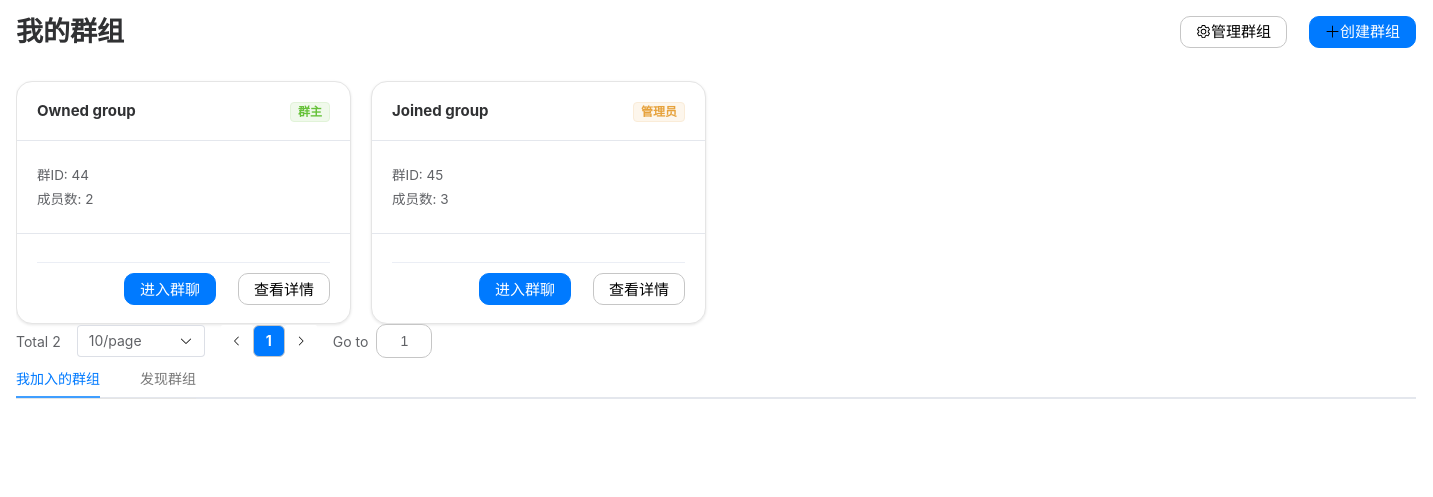
it: routed group page journeys with real API responses › searches from Groups with a bounded page and displays the public owner ID fallback
The width and height of the screenshot is (1433, 497).
Click the tab "发现群组". click: (168, 378)
box: [140,370,196,387]
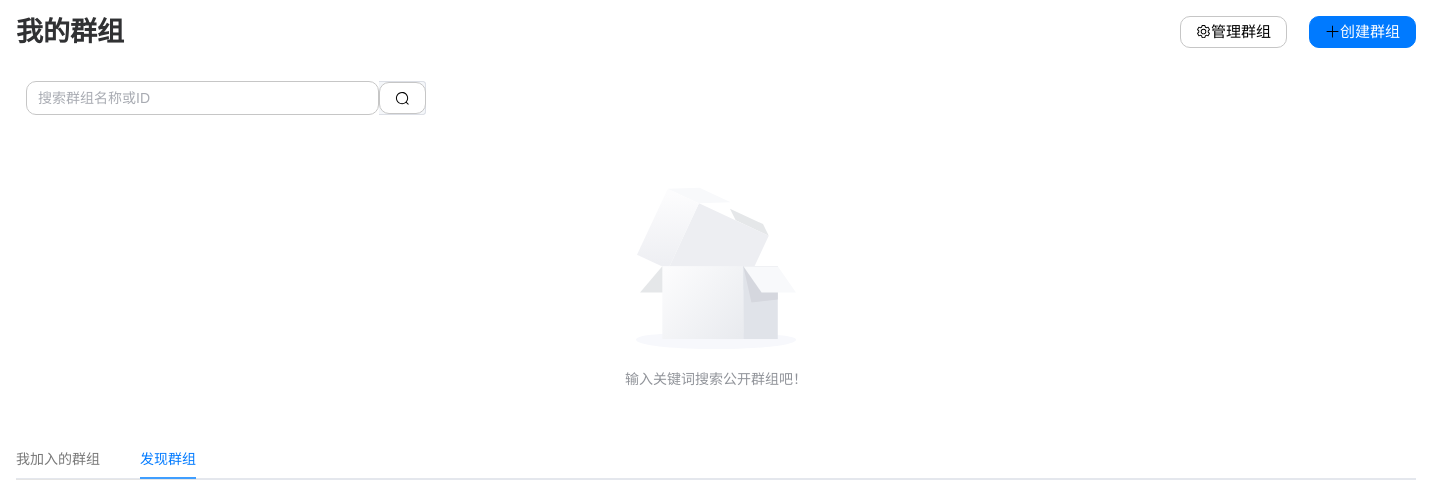
Type "Study" into the field with placeholder "搜索群组名称或ID". click: (202, 98)
box: [38,83,367,113]
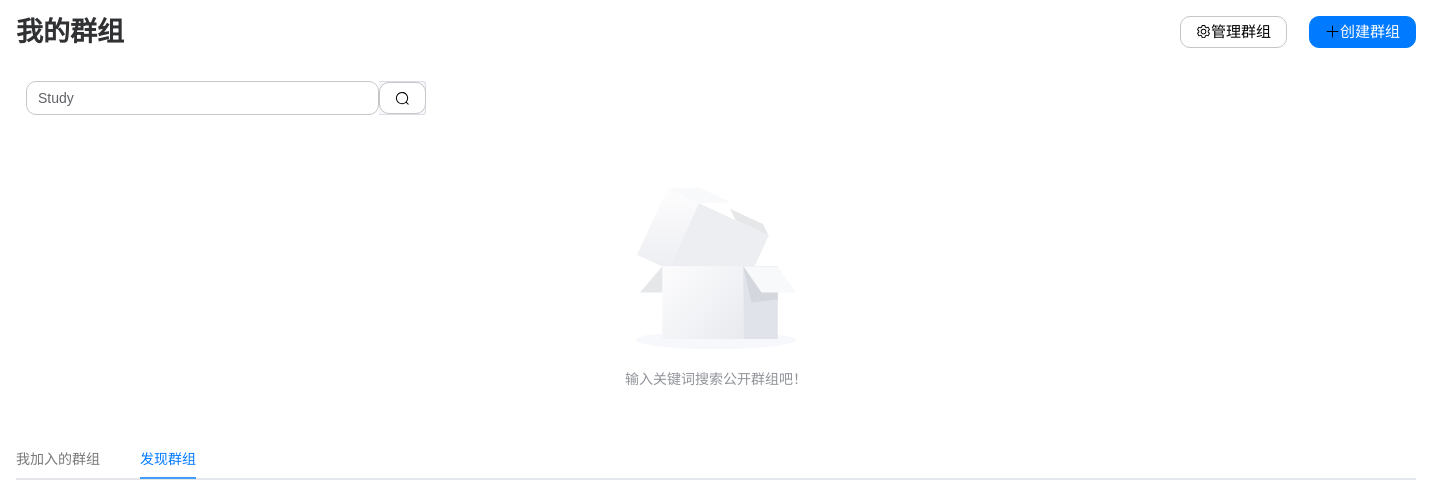
Click the 3rd button. click: (402, 98)
box: [379,82,426,114]
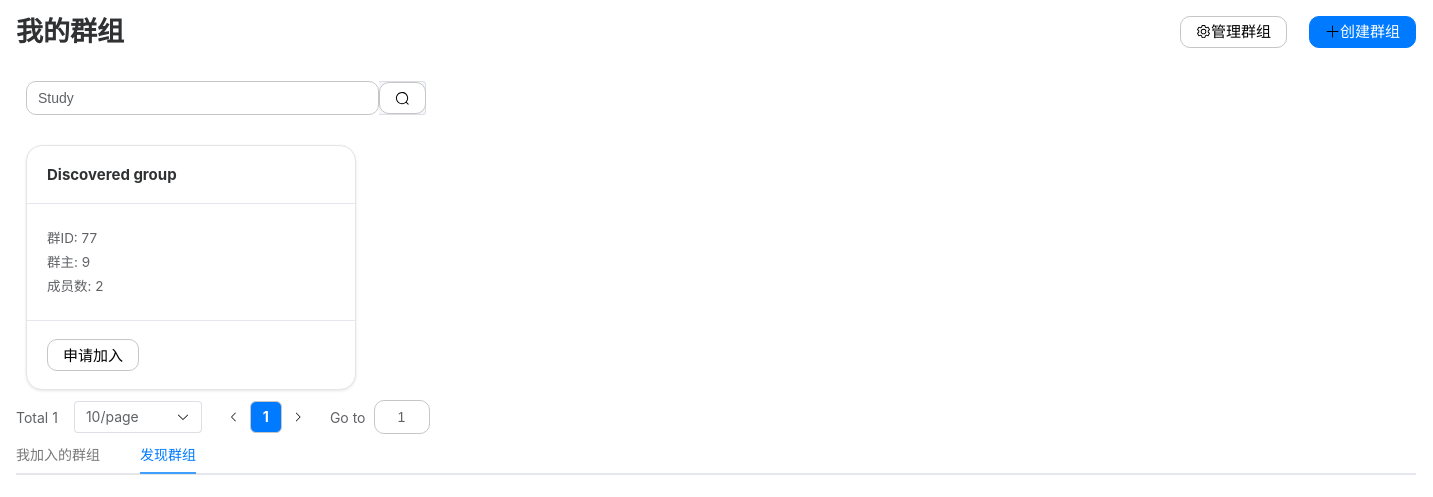
Expected: the panel shows "群主: 9", [47,254,90,270]
